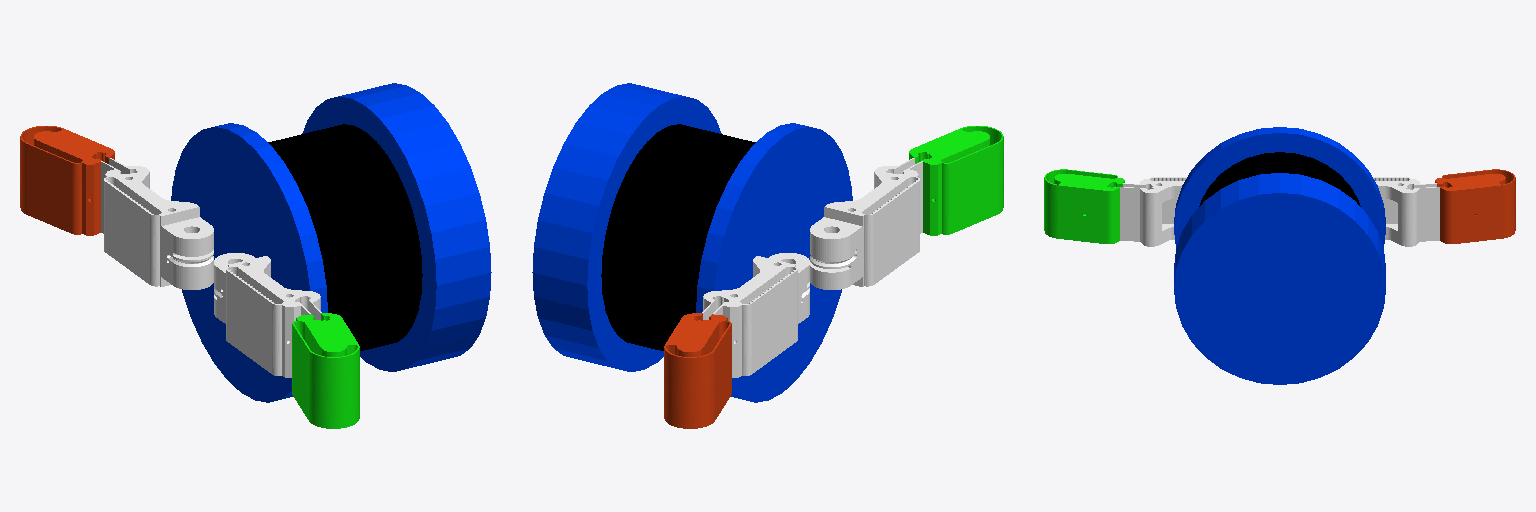
The robot description file, URDF, robot "t42":
<robot name="t42">
    <link name="hand_base" />
    <link name="hand_coupler">
        <inertial>
            <origin xyz="0.000000 0.000000 0.025400" />
            <mass value="1.0" />
            <inertia ixx="1000.0" ixy="0.0" ixz="0.0" iyy="1000.0" iyz="0.0" izz="1000.0" />
        </inertial>
        <visual>
            <material name="lightlue">
                <color rgba="0. 0.3 1.0 1.0" />
            </material>
            <origin rpy="0 1.57079632679 0" xyz="0.000000 0.000000 0.000000" />
            <geometry>
                <cylinder length="0.02562" radius="0.05715" />
            </geometry>
        </visual>
        <collision>
            <origin rpy="0 1.57079632679 0" xyz="0.000000 0.000000 0.000000" />
            <geometry>
              <cylinder length="0.02562" radius="0.05715" />
                <!-- <cylinder length="0.00762" radius="0.05715" /> -->
            </geometry>
        </collision>
    </link>
    <link name="motor_space">
        <inertial>
            <origin xyz="0.000000 0.000000 0.025400" />
            <mass value="1.0" />
            <inertia ixx="1000.0" ixy="0.0" ixz="0.0" iyy="1000.0" iyz="0.0" izz="1000.0" />
        </inertial>
        <visual>
            <material name="black">
                <color rgba="0. 0. 0. 1.0" />
            </material>
            <origin rpy="0 1.57079632679 0" xyz="0.000000 0.000000 0.000000" />
            <geometry>
                <cylinder length="0.0508" radius="0.04572" />
            </geometry>
        </visual>
        <collision>
            <origin rpy="0 1.57079632679 0" xyz="0.000000 0.000000 0.000000" />
            <geometry>
                <cylinder length="0.0508" radius="0.05715" />
            </geometry>
        </collision>
    </link>
    <link name="simple_base">
        <inertial>
            <origin xyz="0.000000 0.000000 0.025400" />
            <mass value="1.0" />
            <inertia ixx="1000.0" ixy="0.0" ixz="0.0" iyy="1000.0" iyz="0.0" izz="1000.0" />
        </inertial>
        <visual>
            <material name="lightlue">
                <color rgba="0. 0.3 1.0 1.0" />
            </material>
            <origin rpy="0 1.57079632679 0" xyz="0.000000 0.000000 0.000000" />
            <geometry>
                <cylinder length="0.00762" radius="0.05715" />
            </geometry>
        </visual>
        <collision>
            <origin rpy="0 1.57079632679 0" xyz="0.000000 0.000000 0.000000" />
            <geometry>
                <cylinder length="0.00762" radius="0.05715" />
            </geometry>
        </collision>
    </link>
    <link name="prox_r">
        <inertial>
            <origin xyz="0 0 0" />
            <mass value="0.1" />
            <inertia ixx="0.0001" ixy="0.0" ixz="0.0" iyy="0.0001" iyz="0.0" izz="0.0001" />
        </inertial>
        <visual>
            <material name="white">
                <color rgba="1.0 1.0 1.0 1.0" />
            </material>
            <origin xyz="0 0 0" />
            <geometry>
                <mesh filename="package://openhand_simulation/t42/pin_flexure_round/t42_round_finger_FHalf.stl" scale="0.001 0.001 0.001" />
            </geometry>
        </visual>
        <collision>
            <origin xyz="0.000000 0.000000 -0.031750" />
            <geometry>
                <box size="0.038100 0.019050 0.078740" />
            </geometry>
        </collision>
    </link>
    <link name="prox_l">
        <inertial>
            <origin xyz="0 0 0" />
            <mass value="0.1" />
            <inertia ixx="0.0001" ixy="0.0" ixz="0.0" iyy="0.0001" iyz="0.0" izz="0.0001" />
        </inertial>
        <visual>
            <material name="white">
                <color rgba="1.0 1.0 1.0 1.0" />
            </material>
            <origin xyz="0 0 0" />
            <geometry>
                <mesh filename="package://openhand_simulation/t42/pin_flexure_round/t42_round_finger_FHalf.stl" scale="0.001 0.001 0.001" />
            </geometry>
        </visual>
        <collision>
            <origin xyz="0.000000 0.000000 -0.031750" />
            <geometry>
                <box size="0.038100 0.019050 0.078740" />
            </geometry>
        </collision>
    </link>
    <link name="distal_r">
        <inertial>
            <origin xyz="0 0 0" />
            <mass value="0.1" />
            <inertia ixx="0.0001" ixy="0.0" ixz="0.0" iyy="0.0001" iyz="0.0" izz="0.0001" />
        </inertial>
        <visual>
            <material name="green">
                <color rgba="0.1 1.0 0.1 1.0" />
            </material>
            <origin xyz="0 0 0" />
            <geometry>
                <mesh filename="package://openhand_simulation/t42/pin_flexure_round/t42_round_finger_BHalf.stl" scale="0.001 0.001 0.001" />
            </geometry>
        </visual>
        <collision>
            <origin xyz="0 0 0" />
            <geometry>
                <mesh filename="package://openhand_simulation/t42/pin_flexure_round/t42_round_finger_BHalf.stl" scale="0.001 0.001 0.001" />
            </geometry>
        </collision>
    </link>
    <link name="distal_l">
        <inertial>
            <origin xyz="0 0 0" />
            <mass value="0.1" />
            <inertia ixx="0.0001" ixy="0.0" ixz="0.0" iyy="0.0001" iyz="0.0" izz="0.0001" />
        </inertial>
        <visual>
            <material name="orange">
                <color rgba="0.9 0.3 0.1 1.0" />
            </material>
            <origin xyz="0 0 0" />
            <geometry>
                <mesh filename="package://openhand_simulation/t42/pin_flexure_round/t42_round_finger_BHalf.stl" scale="0.001 0.001 0.001" />
            </geometry>
        </visual>
        <collision>
            <origin xyz="0 0 0" />
            <geometry>
                <mesh filename="package://openhand_simulation/t42/pin_flexure_round/t42_round_finger_BHalf.stl" scale="0.001 0.001 0.001" />
            </geometry>
        </collision>
    </link>
    <joint name="fixed1" type="fixed">
      <!-- <origin rpy="0 0 0" xyz="-0.008890 0.000000 0.000000" /> -->
        <origin rpy="0 0 0" xyz="-0.01281 0.000000 0.000000" />
        <parent link="hand_base" />
        <child link="hand_coupler" />
    </joint>
    <joint name="fixed2" type="fixed">
      <!-- <origin rpy="0 0 0" xyz="-0.029210 0.000000 0.000000" /> -->
        <origin rpy="0 0 0" xyz="-0.03821 0.000000 0.000000" />
        <parent link="hand_coupler" />
        <child link="motor_space" />
    </joint>
    <joint name="fixed3" type="fixed">
        <origin rpy="0 0 0" xyz="-0.029210 0.000000 0.000000" />
        <parent link="motor_space" />
        <child link="simple_base" />
    </joint>
    <joint name="base_to_prox_r" type="revolute">
        <origin rpy="-1.57079632679 1.57079632679 0" xyz="-0.016510 -0.017780 0.000000" />
        <parent link="simple_base" />
        <child link="prox_r" />
        <limit effort="10000" lower="0.0" upper="3.0" velocity="2" />
        <axis xyz="1 0 0" />
        <dynamics damping="0" friction="0.0" />
    </joint>
    <joint name="base_to_prox_l" type="revolute">
        <origin rpy="1.57079632679 -1.57079632679 0" xyz="-0.016510 0.017780 0.000000" />
        <parent link="simple_base" />
        <child link="prox_l" />
        <limit effort="10000" lower="0.0" upper="3.0" velocity="2" />
        <axis xyz="1 0 0" />
        <dynamics damping="0" friction="0.0" />
    </joint>
    <joint name="prox_to_distal_r" type="revolute">
        <origin rpy="0 0 0" xyz="0.000000 0.000000 -0.062551" />
        <parent link="prox_r" />
        <child link="distal_r" />
        <limit effort="10000" lower="0.0" upper="3.0" velocity="2" />
        <axis xyz="1 0 0" />
        <dynamics damping="0" friction="0.0" />
    </joint>
    <joint name="prox_to_distal_l" type="revolute">
        <origin rpy="0 0 0" xyz="0.000000 0.000000 -0.062551" />
        <parent link="prox_l" />
        <child link="distal_l" />
        <limit effort="10000" lower="0.0" upper="3.0" velocity="2" />
        <axis xyz="1 0 0" />
        <dynamics damping="0" friction="0.0" />
    </joint>
    <gazebo reference="hand_coupler">
        <material>Gazebo/SkyBlue</material>
        <selfCollide>false</selfCollide>
    </gazebo>
    <gazebo reference="motor_space">
        <material>Gazebo/Black</material>
        <selfCollide>false</selfCollide>
    </gazebo>
    <gazebo reference="simple_base">
        <material>Gazebo/SkyBlue</material>
        <selfCollide>true</selfCollide>
        <mu1>0.9</mu1>
        <mu2>0.9</mu2>
        <kd>1</kd>
        <kp>6000000</kp>
    </gazebo>
    <gazebo reference="prox_r">
        <material>Gazebo/White</material>
        <selfCollide>true</selfCollide>
        <mu1>0.9</mu1>
        <mu2>0.9</mu2>
        <kd>1</kd>
        <kp>6000000</kp>
    </gazebo>
    <gazebo reference="prox_l">
        <material>Gazebo/White</material>
        <selfCollide>true</selfCollide>
        <mu1>0.9</mu1>
        <mu2>0.9</mu2>
        <kd>1</kd>
        <kp>6000000</kp>
    </gazebo>
    <gazebo reference="distal_r">
        <material>Gazebo/Green</material>
        <selfCollide>true</selfCollide>
        <mu1>0.9</mu1>
        <mu2>0.9</mu2>
        <kp>1e9</kp>
        <kd>1e2</kd>
    </gazebo>
    <gazebo reference="distal_l">
        <material>Gazebo/Orange</material>
        <selfCollide>true</selfCollide>
        <mu1>0.9</mu1>
        <mu2>0.9</mu2>
        <kp>1e9</kp>
        <kd>1e2</kd>
    </gazebo>
    <transmission name="tran11">
        <type>transmission_interface/SimpleTransmission</type>
        <joint name="base_to_prox_r">
            <hardwareInterface>hardware_interface/EffortJointInterface</hardwareInterface>
        </joint>
        <actuator name="motor11">
            <hardwareInterface>hardware_interface/EffortJointInterface</hardwareInterface>
            <mechanicalReduction>1</mechanicalReduction>
        </actuator>
    </transmission>
    <transmission name="tran12">
        <type>transmission_interface/SimpleTransmission</type>
        <joint name="base_to_prox_l">
            <hardwareInterface>hardware_interface/EffortJointInterface</hardwareInterface>
        </joint>
        <actuator name="motor12">
            <hardwareInterface>hardware_interface/EffortJointInterface</hardwareInterface>
            <mechanicalReduction>1</mechanicalReduction>
        </actuator>
    </transmission>
    <transmission name="tran13">
        <type>transmission_interface/SimpleTransmission</type>
        <joint name="prox_to_distal_r">
            <hardwareInterface>hardware_interface/EffortJointInterface</hardwareInterface>
        </joint>
        <actuator name="motor13">
            <hardwareInterface>hardware_interface/EffortJointInterface</hardwareInterface>
            <mechanicalReduction>1</mechanicalReduction>
        </actuator>
    </transmission>
    <transmission name="tran14">
        <type>transmission_interface/SimpleTransmission</type>
        <joint name="prox_to_distal_l">
            <hardwareInterface>hardware_interface/EffortJointInterface</hardwareInterface>
        </joint>
        <actuator name="motor14">
            <hardwareInterface>hardware_interface/EffortJointInterface</hardwareInterface>
            <mechanicalReduction>1</mechanicalReduction>
        </actuator>
    </transmission>
</robot>

--- Render facts (derived) ---
3 views of the same robot in one strip: view 1: azimuth 30°, elevation 25°; view 2: azimuth 150°, elevation 25°; view 3: azimuth 270°, elevation 25° (orthographic).
Robot: t42 — 8 links, 7 joints (4 revolute, 3 fixed); root link hand_base; default pose: all joints at 0.
Visible links, largest first — view 1: hand_coupler, motor_space, simple_base, prox_l, prox_r, distal_l, distal_r; view 2: hand_coupler, motor_space, simple_base, prox_r, prox_l, distal_r, distal_l; view 3: hand_coupler, simple_base, distal_r, distal_l, prox_r, prox_l, motor_space.
Link boxes in pixels (x1,y1,x2,y2): hand_coupler: (302, 83, 491, 371); motor_space: (268, 124, 422, 350); simple_base: (171, 123, 327, 402); prox_l: (101, 158, 213, 289); prox_r: (214, 253, 321, 377); distal_l: (20, 126, 114, 235); distal_r: (292, 313, 359, 428); hand_coupler: (532, 83, 721, 371); motor_space: (601, 124, 755, 350); simple_base: (696, 123, 852, 402); prox_r: (810, 158, 922, 289); prox_l: (702, 253, 809, 377); distal_r: (909, 126, 1003, 235); distal_l: (664, 313, 731, 428); hand_coupler: (1174, 173, 1385, 384); simple_base: (1174, 127, 1385, 247); distal_r: (1044, 169, 1124, 243); distal_l: (1435, 169, 1515, 243); prox_r: (1120, 177, 1186, 246); prox_l: (1373, 177, 1439, 246); motor_space: (1199, 152, 1360, 206).
Bounding box of the posed robot: 0.1184 × 0.2537 × 0.1143 m (x, y, z).
Meshes: 2 distinct files referenced, 4 mesh visuals loaded (2 binary STL).
